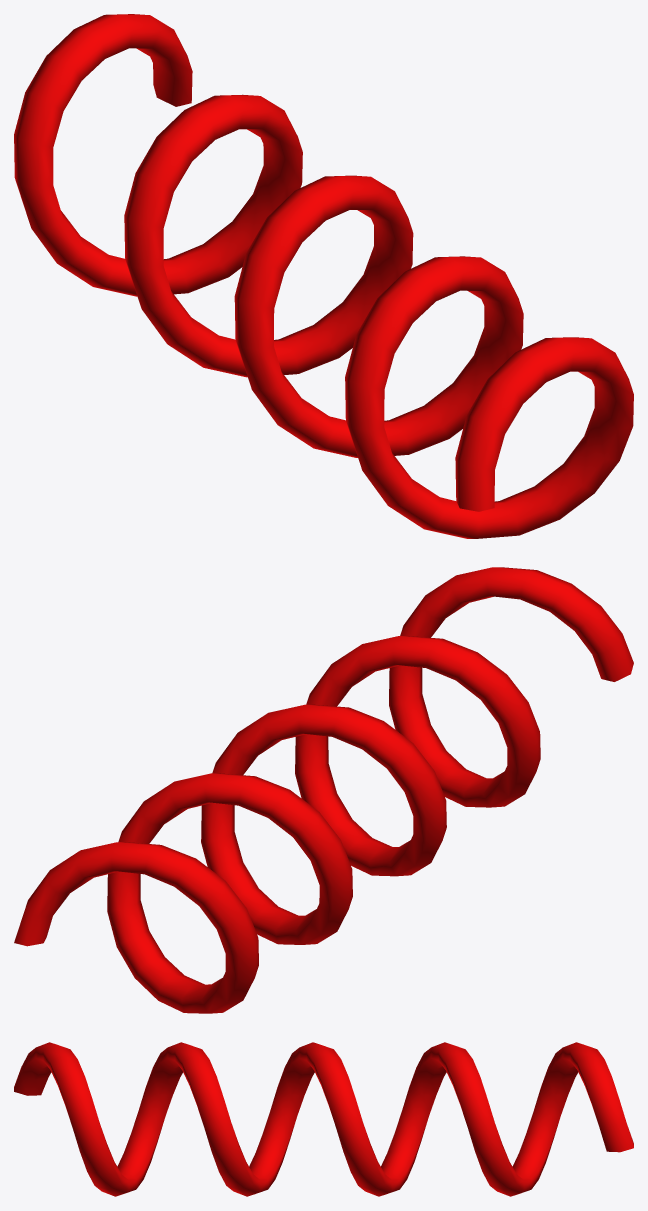
The model's file is LifeLine_RefugeChamber.FBX.
3 renders of one model, top to bottom at view 1: azimuth 30°, elevation 25°; view 2: azimuth 150°, elevation 25°; view 3: azimuth 270°, elevation 25°, orthographic. The views are drawn at different scales.
Parts seen in each view (by area): view 1: Lifeline_RefugeChamber; view 2: Lifeline_RefugeChamber; view 3: Lifeline_RefugeChamber.
Boxes of the visible parts, x1=… form: Lifeline_RefugeChamber: x1=14, y1=14, x2=633, y2=538; Lifeline_RefugeChamber: x1=14, y1=567, x2=633, y2=1013; Lifeline_RefugeChamber: x1=14, y1=1042, x2=633, y2=1196.
Bounding box in the file's own units: 5.08 × 5 × 20.31.
